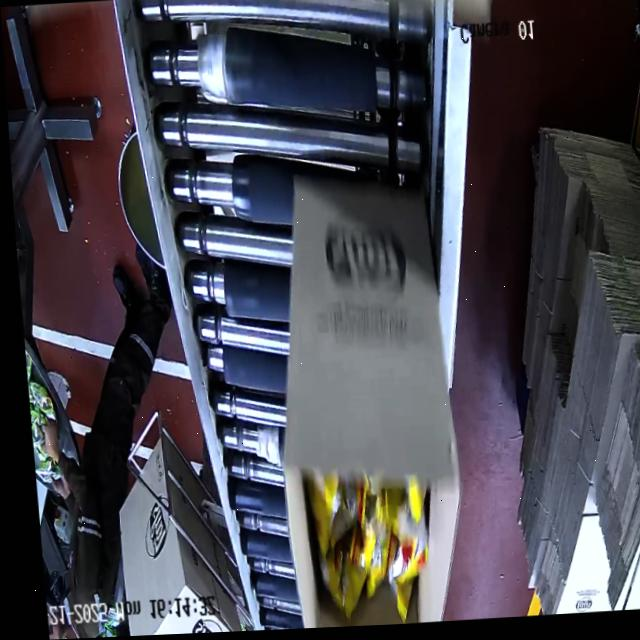SALTED: (296, 469, 448, 628)
